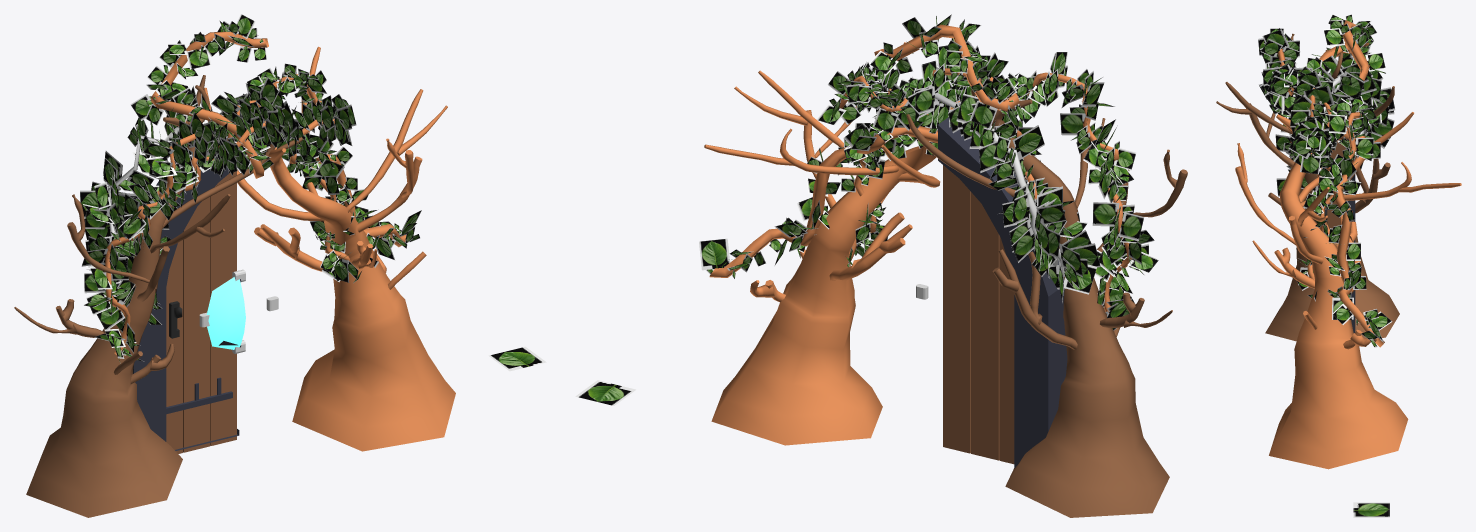
Rendered from door4.glb.
3 renders of one model, left to right at view 1: azimuth 30°, elevation 25°; view 2: azimuth 150°, elevation 25°; view 3: azimuth 270°, elevation 25°, orthographic. The views are drawn at different scales.
Visible parts, largest first — view 1: GP_Layer.006, GP_Layer.005, Cube.007, Cube.006, BezierCurve.004, Cube.003, BezierCurve.003, Plane, Cube.010; view 2: GP_Layer.006, GP_Layer.005, Cube.007, Cube.006, BezierCurve.004, Plane (×2), BezierCurve.003, BezierCurve.002; view 3: GP_Layer.006, GP_Layer.005, Plane (×9), BezierCurve.004, BezierCurve.001, Cube.007.
Part boxes in pixels (box(x1,y1,x2,y2)): GP_Layer.006: box(204, 46, 455, 451); GP_Layer.005: box(14, 75, 303, 517); Cube.007: box(166, 171, 236, 453); Cube.006: box(116, 133, 229, 441); BezierCurve.004: box(150, 31, 406, 247); Cube.003: box(206, 277, 245, 349); BezierCurve.003: box(105, 121, 265, 354); Plane: box(488, 346, 546, 371); Cube.010: box(166, 377, 232, 414); GP_Layer.006: box(704, 42, 959, 445); GP_Layer.005: box(906, 78, 1187, 517); Cube.007: box(943, 165, 1014, 464); Cube.006: box(938, 117, 1067, 468); BezierCurve.004: box(709, 24, 1019, 277); Plane (×2): box(575, 238, 729, 405); BezierCurve.003: box(989, 72, 1131, 312); BezierCurve.002: box(934, 92, 1064, 277); GP_Layer.006: box(1235, 102, 1461, 469); GP_Layer.005: box(1216, 33, 1399, 341); Plane (×9): box(1270, 28, 1389, 517); BezierCurve.004: box(1288, 20, 1384, 347); BezierCurve.001: box(1307, 112, 1361, 280); Cube.007: box(1327, 140, 1346, 228).
Size of the model in its own units: 1.9 by 1.42 by 0.8731.
6 materials, 1 textured.
